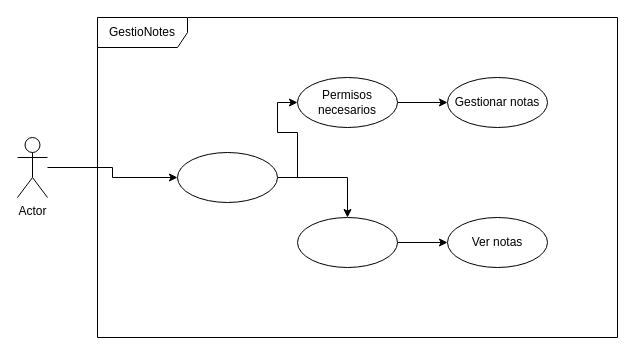
Image size: 635x355. Some labels were removed from this diagram. Here are the shapes that lost their labels. From the top down, the centre of each, then its label:
[227,177]: Autenticarse
[347,242]: No permisos necesarios
